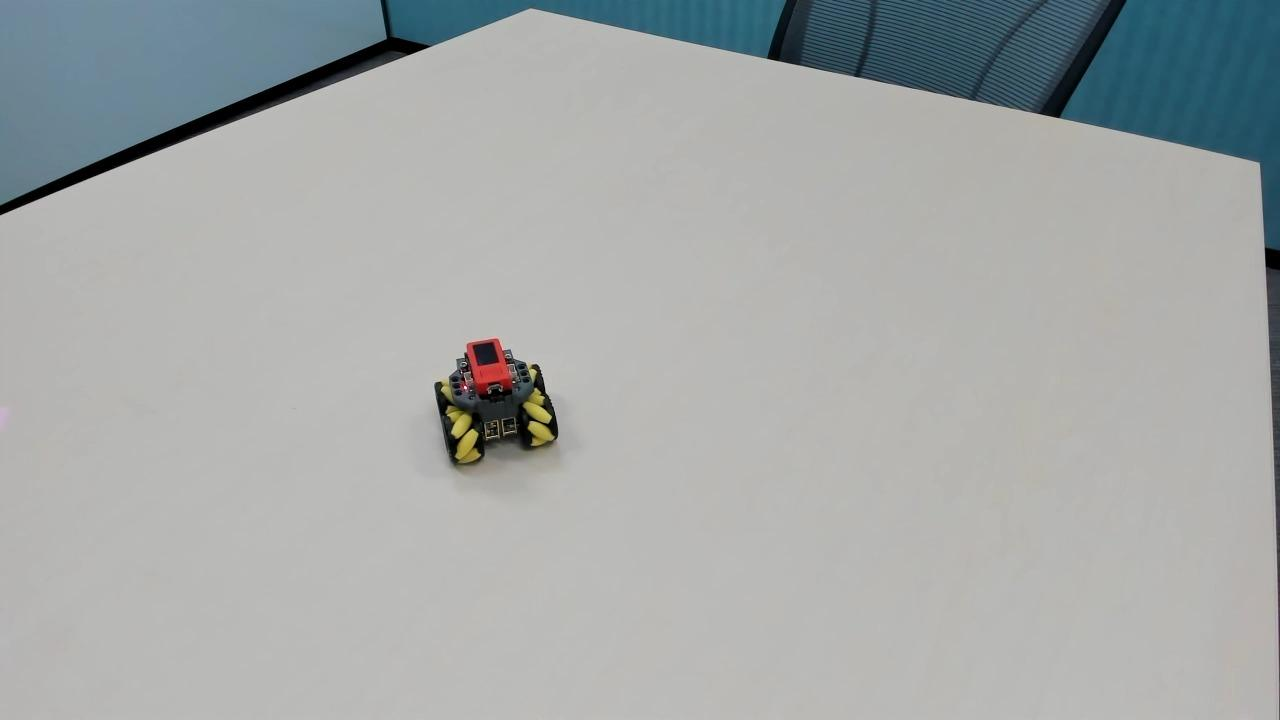R-Robot: (413, 325, 574, 488)
